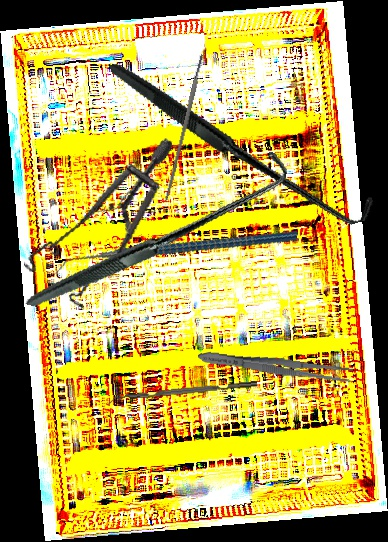Chopper: (53, 180, 299, 328), (107, 380, 258, 408)
Dressing Forceps: (196, 347, 355, 385)
Hook Surgical: (109, 3, 378, 279), (25, 103, 291, 358)
Scalpel Handle: (163, 54, 206, 202)
Speculum: (16, 114, 174, 322)
